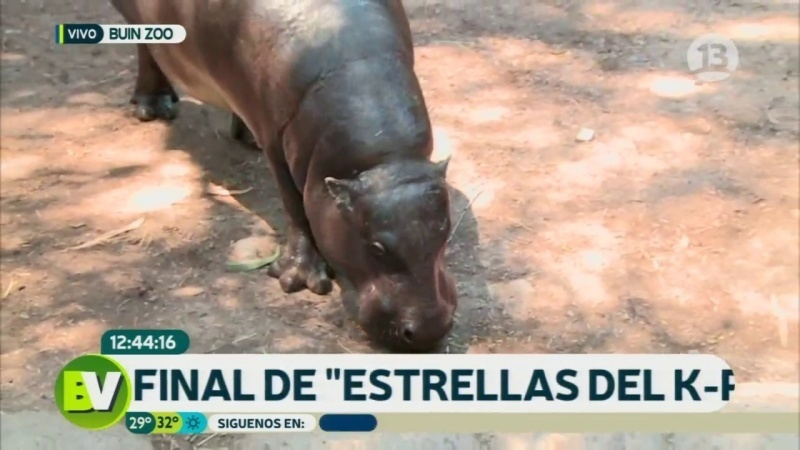hipopotamo: (103, 1, 483, 354)
